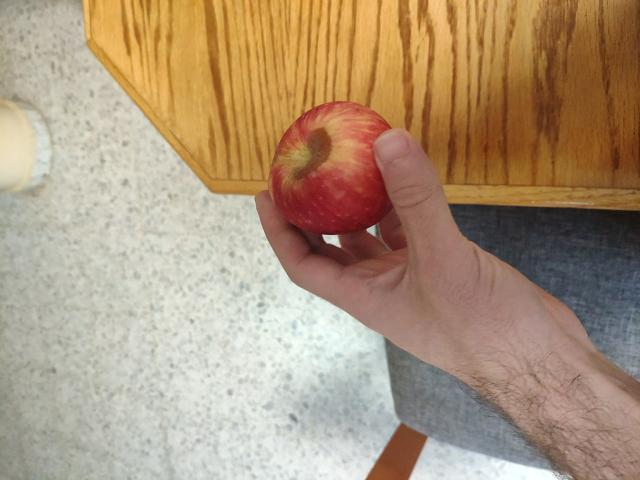apple: (264, 106, 406, 236)
